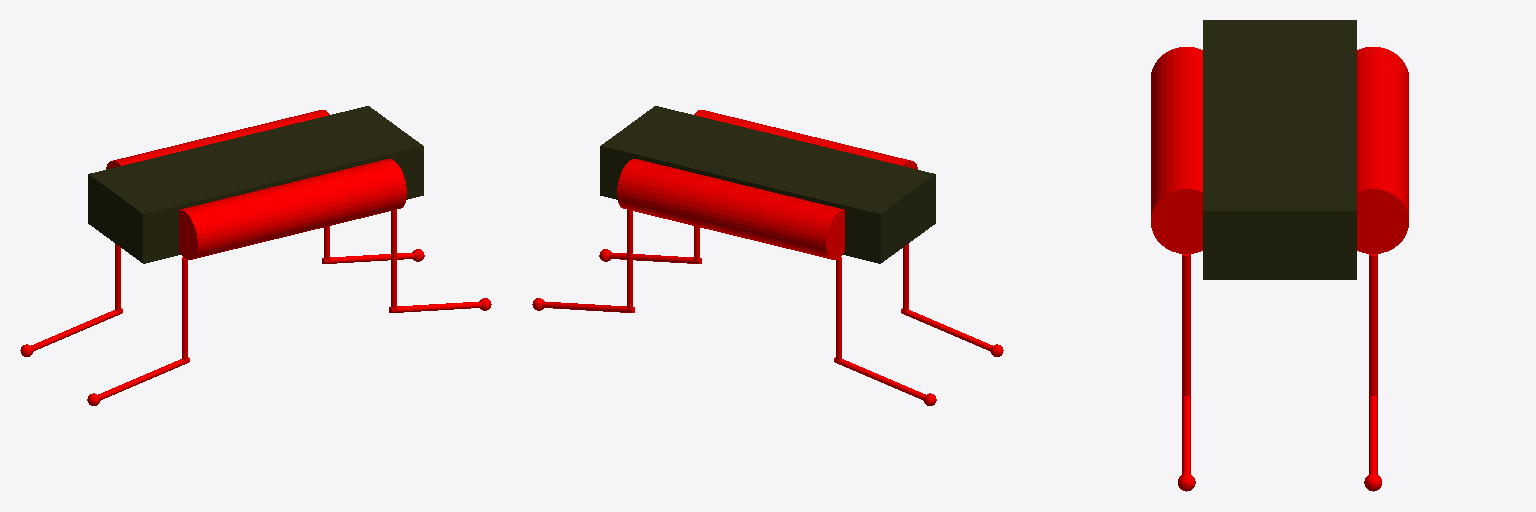
URDF robot description (hyq):
<robot name="hyq">
<!-- ROBOT LINKS -->
    <link name="base_link">
            <inertial>
              <origin xyz="0 0 0"/>
                    <mass value="53.000000"/>
                    <inertia ixx="1.259832"  ixy="0.030529"  ixz="-0.058400" iyx="0.030529"  iyy="6.565043" iyz="-0.026018"  izx="-0.058400"  izy="-0.026018"  izz="6.692983" />
            </inertial>
            <visual>
                    <origin xyz="0.0 0.0 0.0" rpy="0.0 0.0 0.0"/>
                    <geometry>
                            <box size="1.0 0.34 0.17"/>
                    </geometry>
                    <material name="blue">
                            <color rgba=".20 .20 .100 1.0"/>
                    </material>
            </visual>
            <collision>
                    <origin xyz="0.000000 0.000000 0.000000" rpy="0.000000 0.000000 0.000000"/>
                    <geometry>
                            <box size="1.0 0.34 0.17"/>
                    </geometry>
            </collision>
    </link>
    <!-- LF_LEG LINKS -->
    <link name="LF_HIP_AA">
            <inertial>
                    <!-- <origin xyz="0.161454 -0.022139 -0.000005"/> -->
                    <origin xyz="0.091114 -0.012494 -0.000003"/>
                    <mass value="1.772000"/>
                    <inertia ixx="0.002771"  ixy="0.005438" ixz="0.000000" iyx="0.005438"  iyy="0.069494" iyz="0.000000"  izx="0.000000"  izy="0.000000"  izz="0.070450" />
            </inertial>
            <visual>
                    <origin xyz="0.000000 0.000000 0.18675" rpy="0.000000 0.000000 0.000000"/>
                    <geometry>
                            <cylinder radius="0.08" length="0.3735"/>
                    </geometry>
                    <material name="Red">
                            <color rgba="1 0 0 1.0"/>
                    </material>
            </visual>
            <collision>
                    <origin xyz="0.000000 0.000000 0.18675" rpy="0.000000 0.000000 0.000000"/>
                    <geometry>
                            <cylinder radius="0.08" length="0.3735"/>
                    </geometry>
            </collision>
    </link>
    <link name="LF_HIP_FE">
            <inertial>
                    <!-- <origin xyz="0.032475 0.000289 0.142381"/> -->
                    <origin xyz="0.013084 0.000116 0.057365"/>
                    <mass value="2.482000"/>
                    <inertia ixx="0.095613"  ixy="-0.000015" ixz="-0.011017" iyx="-0.000015"  iyy="0.101263" iyz="-0.000023"  izx="-0.011017"  izy="-0.000023"  izz="0.000676" />
            </inertial>
            <visual>
                    <origin xyz="0.175 0.000000 0.000000" rpy="0.000000 1.570796 0.000000"/>
                    <geometry>
                            <cylinder radius="0.01" length="0.35"/>
                    </geometry>
                    <material name="Red">
                    </material>
            </visual>
            <collision>
                    <origin xyz="0.175 0.000000 0.000000" rpy="0.000000 1.570796 0.000000"/>
                    <geometry>
                            <cylinder radius="0.01" length="0.35"/>
                    </geometry>
            </collision>
    </link>
    <link name="LF_KNEE">
            <inertial>
                    <!-- <origin xyz="0.121822 0.000580 -0.000119"/> -->
                    <origin xyz="0.076139 0.000362 -0.000074"/>
                    <mass value="1.600000"/>
                    <inertia ixx="0.000423"  ixy="-0.000003" ixz="0.000000" iyx="-0.000003"  iyy="0.022033" iyz="0.000000"  izx="0.000000"  izy="0.000000"  izz="0.021843" />
            </inertial>
            <visual>
                    <origin xyz="0.1515 0.000000 0.000000" rpy="0.000000 1.570796 0.000000"/>
                    <geometry>
                            <cylinder radius="0.01" length="0.33"/>
                    </geometry>
                    <material name="Red">
                    </material>
            </visual>
            <collision>
                    <origin xyz="0.1515 0.000000 0.000000" rpy="0.000000 1.570796 0.000000"/>
                    <geometry>
                            <cylinder radius="0.01" length="0.33"/>
                    </geometry>
            </collision>
    </link>
    <link name="LF_FOOT">
            <inertial>
                    <origin xyz="0.0 0.0 0.0"/>
                    <mass value="0.0"/>
                    <inertia ixx="0.0"  ixy="0.0"  ixz="0.0" iyx="0.0"  iyy="0.0" iyz="0.0"  izx="0.0"  izy="0.0"  izz="0.0" />
            </inertial>
            <visual>
                    <origin xyz="0.000000 0.000000 0.000000" rpy="0.000000 0.000000 0.000000"/>
                    <geometry>
                            <sphere radius="0.02"/>
                    </geometry>
                    <material name="Red">
                    </material>
            </visual>
            <collision>
                    <origin xyz="0.000000 0.000000 0.000000" rpy="0.000000 0.000000 0.000000"/>
                    <geometry>
                            <sphere radius="0.02"/>
                    </geometry>
            </collision>
    </link>
    <!-- RF_LEG LINKS -->
    <link name="RF_HIP_AA">
            <inertial>
                    <!-- <origin xyz="0.161454 -0.022139 -0.000005"/> -->
                    <origin xyz="0.091114 -0.012494 -0.000003"/>
                    <mass value="1.772000"/>
                    <inertia ixx="0.002771"  ixy="0.005438" ixz="0.000000" iyx="0.005438"  iyy="0.069494" iyz="0.000000"  izx="0.000000"  izy="0.000000"  izz="0.070450" />
            </inertial>
            <visual>
                    <origin xyz="0.000000 0.000000 -0.18675" rpy="0.000000 0.000000 0.000000"/>
                    <geometry>
                            <cylinder radius="0.08" length="0.3735"/>
                    </geometry>
                    <material name="Red">
                    </material>
            </visual>
            <collision>
                    <origin xyz="0.000000 0.000000 0.18675" rpy="0.000000 0.000000 0.000000"/>
                    <geometry>
                            <cylinder radius="0.08" length="0.3735"/>
                    </geometry>
            </collision>
    </link>
    <link name="RF_HIP_FE">
            <inertial>
                    <!-- <origin xyz="0.032475 -0.000289 -0.142381"/> -->
                    <origin xyz="0.013084 -0.000116 -0.057365"/>
                    <mass value="2.482000"/>
                    <inertia ixx="0.095613"  ixy="0.000015" ixz="0.011017" iyx="0.000015"  iyy="0.101263" iyz="-0.000023"  izx="0.011017"  izy="-0.000023"  izz="0.000676" />
            </inertial>
            <visual>
                    <origin xyz="0.175 0.000000 0.000000" rpy="0.000000 1.570796 0.000000"/>
                    <geometry>
                            <cylinder radius="0.01" length="0.35"/>
                    </geometry>
                    <material name="Red">
                    </material>
            </visual>
            <collision>
                    <origin xyz="0.175 0.000000 0.000000" rpy="0.000000 1.570796 0.000000"/>
                    <geometry>
                            <cylinder radius="0.01" length="0.35"/>
                    </geometry>
            </collision>
    </link>
    <link name="RF_KNEE">
            <inertial>
                    <!-- <origin xyz="0.121822 0.000580 -0.000119"/> -->
                    <origin xyz="0.076139 0.000362 -0.000074"/>
                    <mass value="1.600000"/>
                    <inertia ixx="0.000423"  ixy="-0.000003" ixz="0.000000" iyx="-0.000003"  iyy="0.022033" iyz="0.000000"  izx="0.000000"  izy="0.000000"  izz="0.021843" />
            </inertial>
            <visual>
                    <origin xyz="0.1515 0.000000 0.000000" rpy="0.000000 1.570796 0.000000"/>
                    <geometry>
                            <cylinder radius="0.01" length="0.33"/>
                    </geometry>
                    <material name="Red">
                    </material>
            </visual>
            <collision>
                    <origin xyz="0.1515 0.000000 0.000000" rpy="0.000000 1.570796 0.000000"/>
                    <geometry>
                            <cylinder radius="0.01" length="0.33"/>
                    </geometry>
            </collision>
    </link>
    <link name="RF_FOOT">
            <inertial>
                    <origin xyz="0.0 0.0 0.0"/>
                    <mass value="0.0"/>
                    <inertia ixx="0.0"  ixy="0.0"  ixz="0.0" iyx="0.0"  iyy="0.0" iyz="0.0"  izx="0.0"  izy="0.0"  izz="0.0" />
            </inertial>
            <visual>
                    <origin xyz="0.000000 0.000000 0.000000" rpy="0.000000 0.000000 0.000000"/>
                    <geometry>
                            <sphere radius="0.02"/>
                    </geometry>
                    <material name="Red">
                    </material>
            </visual>
            <collision>
                    <origin xyz="0.000000 0.000000 0.000000" rpy="0.000000 0.000000 0.000000"/>
                    <geometry>
                            <sphere radius="0.02"/>
                    </geometry>
            </collision>
    </link>
    <!-- LH_LEG LINKS -->
    <link name="LH_HIP_AA">
            <inertial>
                    <!-- <origin xyz="0.161454 0.022139 0.000005"/> -->
                    <origin xyz="0.091114 0.012494 0.000003"/>
                    <mass value="1.772000"/>
                    <inertia ixx="0.002771"  ixy="-0.005438" ixz="-0.000000" iyx="-0.005438"  iyy="0.069494" iyz="0.000000"  izx="-0.000000"  izy="0.000000"  izz="0.070450" />
            </inertial>
            <visual>
                    <origin xyz="0.000000 0.000000 -0.18675" rpy="0.000000 0.000000 0.000000"/>
                    <geometry>
                            <cylinder radius="0.08" length="0.3735"/>
                    </geometry>
                    <material name="Red">
                    </material>
            </visual>
            <collision>
                    <origin xyz="0.000000 0.000000 0.18675" rpy="0.000000 0.000000 0.000000"/>
                    <geometry>
                            <cylinder radius="0.08" length="0.3735"/>
                    </geometry>
            </collision>
    </link>
    <link name="LH_HIP_FE">
            <inertial>
                    <!-- <origin xyz="0.032475 -0.000289 -0.142381"/> -->
                    <origin xyz="0.013084 -0.000116 -0.057365"/>
                    <mass value="2.482000"/>
                    <inertia ixx="0.095613"  ixy="0.000015" ixz="0.011017" iyx="0.000015"  iyy="0.101263" iyz="-0.000023"  izx="0.011017"  izy="-0.000023"  izz="0.000676" />
            </inertial>
            <visual>
                    <origin xyz="0.175 0.000000 0.000000" rpy="0.000000 1.570796 0.000000"/>
                    <geometry>
                            <cylinder radius="0.01" length="0.35"/>
                    </geometry>
                    <material name="Red">
                    </material>
            </visual>
            <collision>
                    <origin xyz="0.175 0.000000 0.000000" rpy="0.000000 1.570796 0.000000"/>
                    <geometry>
                            <cylinder radius="0.01" length="0.35"/>
                    </geometry>
            </collision>
    </link>
    <link name="LH_KNEE">
            <inertial>
                    <!-- <origin xyz="0.121822 -0.000580 0.000119"/> -->
                    <origin xyz="0.076139 -0.000362 0.000074"/>
                    <mass value="1.600000"/>
                    <inertia ixx="0.000423"  ixy="0.000003" ixz="0.000000" iyx="0.000003"  iyy="0.022033" iyz="0.000000"  izx="0.000000"  izy="0.000000"  izz="0.021843" />
            </inertial>
            <visual>
                    <origin xyz="0.1515 0.000000 0.000000" rpy="0.000000 1.570796 0.000000"/>
                    <geometry>
                            <cylinder radius="0.01" length="0.33"/>
                    </geometry>
                    <material name="Red">
                    </material>
            </visual>
            <collision>
                    <origin xyz="0.1515 0.000000 0.000000" rpy="0.000000 1.570796 0.000000"/>
                    <geometry>
                            <cylinder radius="0.01" length="0.33"/>
                    </geometry>
            </collision>
    </link>
    <link name="LH_FOOT">
            <inertial>
                    <origin xyz="0.0 0.0 0.0"/>
                    <mass value="0.0"/>
                    <inertia ixx="0.0"  ixy="0.0"  ixz="0.0" iyx="0.0"  iyy="0.0" iyz="0.0"  izx="0.0"  izy="0.0"  izz="0.0" />
            </inertial>
            <visual>
                    <origin xyz="0.000000 0.000000 0.000000" rpy="0.000000 0.000000 0.000000"/>
                    <geometry>
                            <sphere radius="0.02"/>
                    </geometry>
                    <material name="Red">
                    </material>
            </visual>
            <collision>
                    <origin xyz="0.000000 0.000000 0.000000" rpy="0.000000 0.000000 0.000000"/>
                    <geometry>
                            <sphere radius="0.02"/>
                    </geometry>
            </collision>
    </link>
    <!-- RH_LEG LINKS -->
    <link name="RH_HIP_AA">
            <inertial>
                    <!-- <origin xyz="0.161454 0.022139 0.000005"/> -->
                    <origin xyz="0.091114 0.012494 0.000003"/>
                    <mass value="1.772000"/>
                    <inertia ixx="0.002771"  ixy="-0.005438" ixz="-0.000000" iyx="-0.005438"  iyy="0.069494" iyz="0.000000"  izx="-0.000000"  izy="0.000000"  izz="0.070450" />
            </inertial>
            <visual>
                    <origin xyz="0.000000 0.000000 0.18675" rpy="0.000000 0.000000 0.000000"/>
                    <geometry>
                            <cylinder radius="0.08" length="0.3735"/>
                    </geometry>
                    <material name="Red">
                    </material>
            </visual>
            <collision>
                    <origin xyz="0.000000 0.000000 -0.18675" rpy="0.000000 0.000000 0.000000"/>
                    <geometry>
                            <cylinder radius="0.08" length="0.3735"/>
                    </geometry>
            </collision>
    </link>
    <link name="RH_HIP_FE">
            <inertial>
                    <!-- <origin xyz="0.032475 0.000289 0.142381"/> -->
                    <origin xyz="0.013084 0.000116 0.057365"/>
                    <mass value="2.482000"/>
                    <inertia ixx="0.095613"  ixy="-0.000015" ixz="-0.011017" iyx="-0.000015"  iyy="0.101263" iyz="-0.000023"  izx="-0.011017"  izy="-0.000023"  izz="0.000676" />
            </inertial>
            <visual>
                    <origin xyz="0.175 0.000000 0.000000" rpy="0.000000 1.570796 0.000000"/>
                    <geometry>
                            <cylinder radius="0.01" length="0.35"/>
                    </geometry>
                    <material name="Red">
                    </material>
            </visual>
            <collision>
                    <origin xyz="0.175 0.000000 0.000000" rpy="0.000000 1.570796 0.000000"/>
                    <geometry>
                            <cylinder radius="0.01" length="0.35"/>
                    </geometry>
            </collision>
    </link>
    <link name="RH_KNEE">
            <inertial>
                    <!-- <origin xyz="0.121822 -0.000580 0.000119"/> -->
                    <origin xyz="0.076139 -0.000362 0.000074"/>
                    <mass value="1.600000"/>
                    <inertia ixx="0.000423"  ixy="0.000003" ixz="0.000000" iyx="0.000003"  iyy="0.022033" iyz="0.000000"  izx="0.000000"  izy="0.000000"  izz="0.021843" />
            </inertial>
            <visual>
                    <origin xyz="0.1515 0.000000 0.000000" rpy="0.000000 1.570796 0.000000"/>
                    <geometry>
                            <cylinder radius="0.01" length="0.33"/>
                    </geometry>
                    <material name="Red">
                    </material>
            </visual>
            <collision>
                    <origin xyz="0.1515 0.000000 0.000000" rpy="0.000000 1.570796 0.000000"/>
                    <geometry>
                            <cylinder radius="0.01" length="0.33"/>
                    </geometry>
            </collision>
    </link>
    <link name="RH_FOOT">
            <inertial>
                    <origin xyz="0.0 0.0 0.0"/>
                    <mass value="0.0"/>
                    <inertia ixx="0.0"  ixy="0.0"  ixz="0.0" iyx="0.0"  iyy="0.0" iyz="0.0"  izx="0.0"  izy="0.0"  izz="0.0" />
            </inertial>
            <visual>
                    <origin xyz="0.000000 0.000000 0.000000" rpy="0.000000 0.000000 0.000000"/>
                    <geometry>
                            <sphere radius="0.02"/>
                    </geometry>
                    <material name="Red">
                    </material>
            </visual>
            <collision>
                    <origin xyz="0.000000 0.000000 0.000000" rpy="0.000000 0.000000 0.000000"/>
                    <geometry>
                            <sphere radius="0.02"/>
                    </geometry>
            </collision>
    </link>
<!-- ROBOT JOINTS -->
<!-- zero pos {pi 0 0, 0 0 0, 0 pi 0, 0 0 0} -->
   <!-- LF_LEG JOINTS -->
    <joint name="LF_HFE" type="revolute">
            <origin xyz="0.08 0.0 0.0" rpy="1.570796 0.0 0.0"/>
            <parent link="LF_HIP_AA"/>
            <child link="LF_HIP_FE"/>
            <axis xyz="0 0 1"/>
            <limit effort="100.000000" velocity="10.0" lower="-0.873" upper="1.222"/>
    </joint>
    <joint name="LF_HAA" type="revolute">
            <origin xyz="0.3735 0.207 0.0" rpy="3.141593 1.570796 0.0"/>
            <parent link="base_link"/>
            <child link="LF_HIP_AA"/>
            <axis xyz="0 0 1"/>
            <limit effort="100.000000" velocity="10.0" lower="-1.571" upper="0.524"/>
    </joint>
    <joint name="LF_KFE" type="revolute">
            <origin xyz="0.35 0.0 0.0" rpy="0.0 0.0 0.0"/>
            <parent link="LF_HIP_FE"/>
            <child link="LF_KNEE"/>
            <axis xyz="0 0 1"/>
            <limit effort="100.000000" velocity="10.0" lower="-2.443" upper="-0.349"/>
    </joint>
    <joint name="LF_LLF" type="fixed">
            <origin xyz="0.33 0.0 0.0" rpy="0.0 -1.570796 -1.570796"/>
            <parent link="LF_KNEE"/>
            <child link="LF_FOOT"/>
    </joint>
    <!-- RF_LEG JOINTS -->
    <joint name="RF_HFE" type="revolute">
            <origin xyz="0.08 0.0 0.0" rpy="-1.570796 0.0 0.0"/>
            <parent link="RF_HIP_AA"/>
            <child link="RF_HIP_FE"/>
            <axis xyz="0 0 1"/>
            <limit effort="100.000000" velocity="10.0" lower="-0.873" upper="1.222"/>
    </joint>
    <joint name="RF_HAA" type="revolute">
            <origin xyz="0.3735 -0.207 0.0" rpy="3.141593 1.570796 3.141593"/>
            <parent link="base_link"/>
            <child link="RF_HIP_AA"/>
            <axis xyz="0 0 1"/>
            <limit effort="100.000000" velocity="10.0" lower="-1.571" upper="0.524"/>
    </joint>
    <joint name="RF_KFE" type="revolute">
            <origin xyz="0.35 0.0 0.0" rpy="0.0 0.0 0.0"/>
            <parent link="RF_HIP_FE"/>
            <child link="RF_KNEE"/>
            <axis xyz="0 0 1"/>
            <limit effort="100.000000" velocity="10.0" lower="-2.443" upper="-0.349"/>
    </joint>
    <joint name="RF_LLF" type="fixed">
            <origin xyz="0.33 0.0 0.0" rpy="0.0 -1.570796 -1.570796"/>
            <parent link="RF_KNEE"/>
            <child link="RF_FOOT"/>
    </joint>
    <!-- LH_LEG JOINTS -->
    <joint name="LH_HFE" type="revolute">
            <origin xyz="0.08 0.0 0.0" rpy="1.570796 0.0 0.0"/>
            <parent link="LH_HIP_AA"/>
            <child link="LH_HIP_FE"/>
            <axis xyz="0 0 1"/>
            <limit effort="100.000000" velocity="10.0" lower="-1.222" upper="0.873"/>
    </joint>
    <joint name="LH_HAA" type="revolute">
            <origin xyz="-0.3735 0.207 0.0" rpy="3.141593 1.570796 0.0"/>
            <parent link="base_link"/>
            <child link="LH_HIP_AA"/>
            <axis xyz="0 0 1"/>
            <limit effort="100.000000" velocity="10.0" lower="-1.571" upper="0.524"/>
    </joint>
    <joint name="LH_KFE" type="revolute">
            <origin xyz="0.35 0.0 0.0" rpy="0.0 0.0 0.0"/>
            <parent link="LH_HIP_FE"/>
            <child link="LH_KNEE"/>
            <axis xyz="0 0 1"/>
            <limit effort="100.000000" velocity="10.0" lower="0.349" upper="2.443"/>
    </joint>
    <joint name="LH_LLF" type="fixed">
            <origin xyz="0.33 0.0 0.0" rpy="0.0 -1.570796 -1.570796"/>
            <parent link="LH_KNEE"/>
            <child link="LH_FOOT"/>
    </joint>
    <!-- RH_LEG JOINTS -->
    <joint name="RH_HFE" type="revolute">
            <origin xyz="0.08 0.0 0.0" rpy="-1.570796 0.0 0.0"/>
            <parent link="RH_HIP_AA"/>
            <child link="RH_HIP_FE"/>
            <axis xyz="0 0 1"/>
            <limit effort="100.000000" velocity="10.0" lower="-1.222" upper="0.873"/>
    </joint>
    <joint name="RH_HAA" type="revolute">
            <origin xyz="-0.3735 -0.207 0.0" rpy="0.0 1.570796 0.0"/>
            <parent link="base_link"/>
            <child link="RH_HIP_AA"/>
            <axis xyz="0 0 1"/>
            <limit effort="100.000000" velocity="10.0" lower="-1.571" upper="0.524"/>
    </joint>
    <joint name="RH_KFE" type="revolute">
            <origin xyz="0.35 0.0 0.0" rpy="0.0 0.0 0.0"/>
            <parent link="RH_HIP_FE"/>
            <child link="RH_KNEE"/>
            <axis xyz="0 0 1"/>
            <limit effort="100.000000" velocity="10.0" lower="0.349" upper="2.443"/>
    </joint>
    <joint name="RH_LLF" type="fixed">
            <origin xyz="0.33 0.0 0.0" rpy="0.0 -1.570796 -1.570796"/>
            <parent link="RH_KNEE"/>
            <child link="RH_FOOT"/>
    </joint>
 </robot>

--- What the picture shows (computed from the rendered views, not written in the file) ---
Views: 3 orthographic renders of the robot side by side, from view 1: azimuth 30°, elevation 25°; view 2: azimuth 150°, elevation 25°; view 3: azimuth 270°, elevation 25°.
Model hyq with 17 links and 16 joints (12 revolute, 4 fixed), rooted at base_link, posed joints at zero except 4 at the middle of their limits (LF_KFE = -1.4, RF_KFE = -1.4, LH_KFE = 1.4, RH_KFE = 1.4).
Links seen in each view (by area): view 1: base_link, RH_HIP_AA, RF_HIP_AA, LH_HIP_AA, LF_HIP_AA, RH_HIP_FE, LH_KNEE, RH_KNEE, RF_HIP_FE, RF_KNEE, LF_KNEE; view 2: base_link, LH_HIP_AA, LF_HIP_AA, RH_HIP_AA, RF_HIP_AA, LH_HIP_FE, LH_KNEE, RH_KNEE, LF_HIP_FE, LF_KNEE, RF_KNEE; view 3: base_link, LF_HIP_AA, RF_HIP_AA, LH_HIP_AA, RH_HIP_AA, LF_HIP_FE, RF_HIP_FE, LF_KNEE, RF_KNEE.
Boxes of the visible links, x1,y1,x2,y2 form: base_link: (88,106,423,263); RH_HIP_AA: (179,184,301,259); RF_HIP_AA: (287,159,406,233); LH_HIP_AA: (106,135,225,169); LF_HIP_AA: (220,110,329,139); RH_HIP_FE: (182,257,187,361); LH_KNEE: (31,308,122,351); RH_KNEE: (98,357,189,400); RF_HIP_FE: (391,210,396,310); RF_KNEE: (389,302,481,312); LF_KNEE: (322,253,414,263); base_link: (600,106,935,263); LH_HIP_AA: (722,184,844,259); LF_HIP_AA: (617,159,736,233); RH_HIP_AA: (798,135,917,169); RF_HIP_AA: (694,110,803,139); LH_HIP_FE: (836,257,841,361); LH_KNEE: (834,357,925,400); RH_KNEE: (901,308,992,351); LF_HIP_FE: (627,210,632,310); LF_KNEE: (542,302,634,312); RF_KNEE: (609,253,701,263); base_link: (1203,20,1356,279); LF_HIP_AA: (1357,118,1408,253); RF_HIP_AA: (1151,118,1202,253); LH_HIP_AA: (1357,47,1408,143); RH_HIP_AA: (1151,47,1202,143); LF_HIP_FE: (1369,254,1377,396); RF_HIP_FE: (1182,254,1190,396); LF_KNEE: (1369,396,1377,474); RF_KNEE: (1182,396,1190,474).
Bounding box of the posed robot: 1.44 × 0.574 × 0.5924 m (x, y, z).
Geometry: primitives only (box / cylinder / sphere), no mesh files.